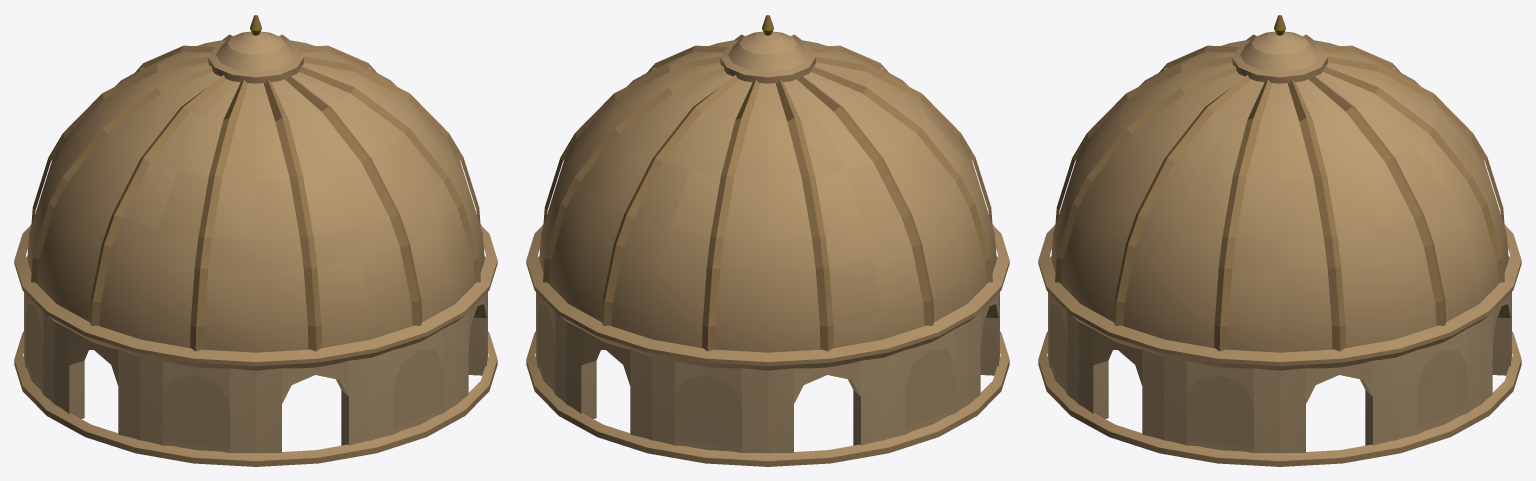
The model's file is dome.hall_12.sandstone.glb.
3 views of the same model, side by side, from view 1: azimuth 30°, elevation 25°; view 2: azimuth 150°, elevation 25°; view 3: azimuth 270°, elevation 25° (orthographic).
Visible parts, largest first — view 1: dome_hall_12_sandstone; view 2: dome_hall_12_sandstone; view 3: dome_hall_12_sandstone.
Boxes of the visible parts, bbox=[...] form: dome_hall_12_sandstone: bbox=[14, 15, 497, 466]; dome_hall_12_sandstone: bbox=[526, 15, 1009, 466]; dome_hall_12_sandstone: bbox=[1038, 15, 1521, 466].
Size of what is drawn, in the model's own units: 15.2 by 12.15 by 15.2.
